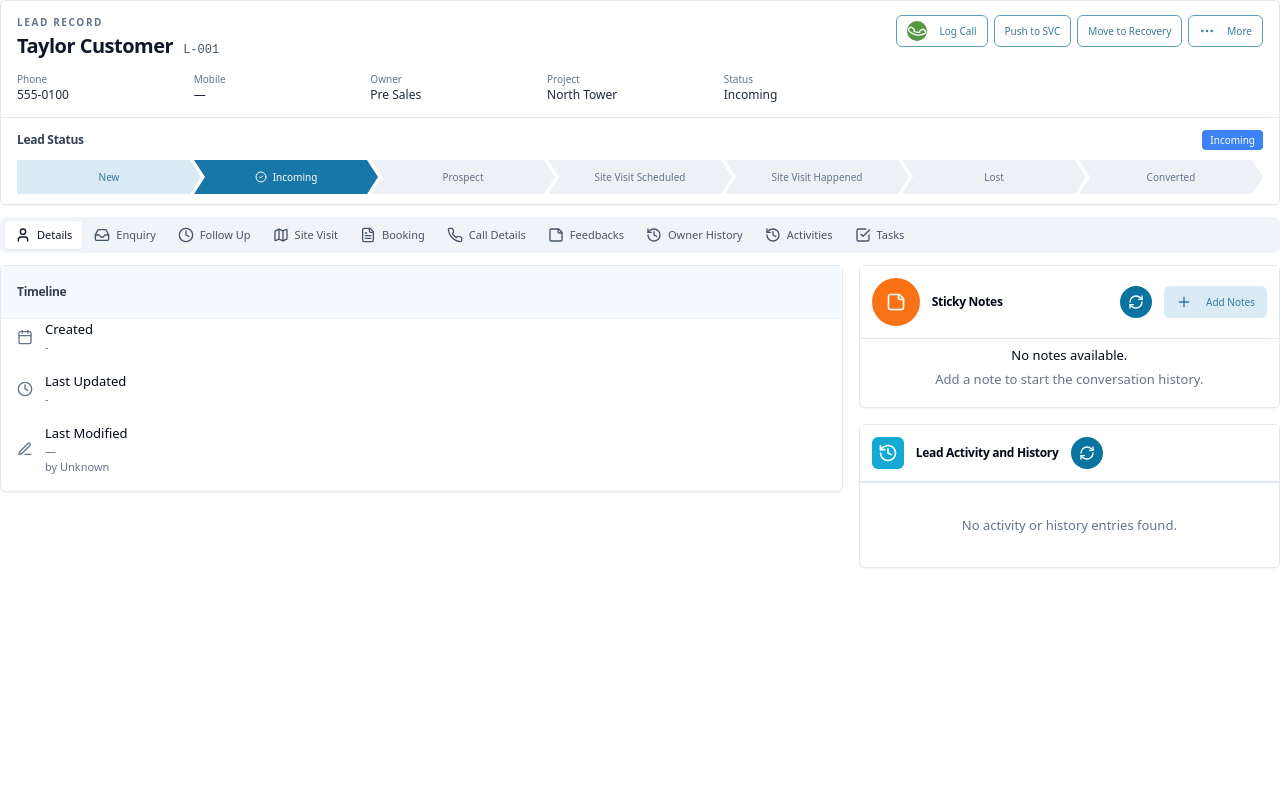
Test case: Push to SVC › shows success and updates local owner/status without refetching inaccessible Lead data
Click the button "Push to SVC".
click(1032, 31)  # box left=994, top=15, right=1071, bottom=47
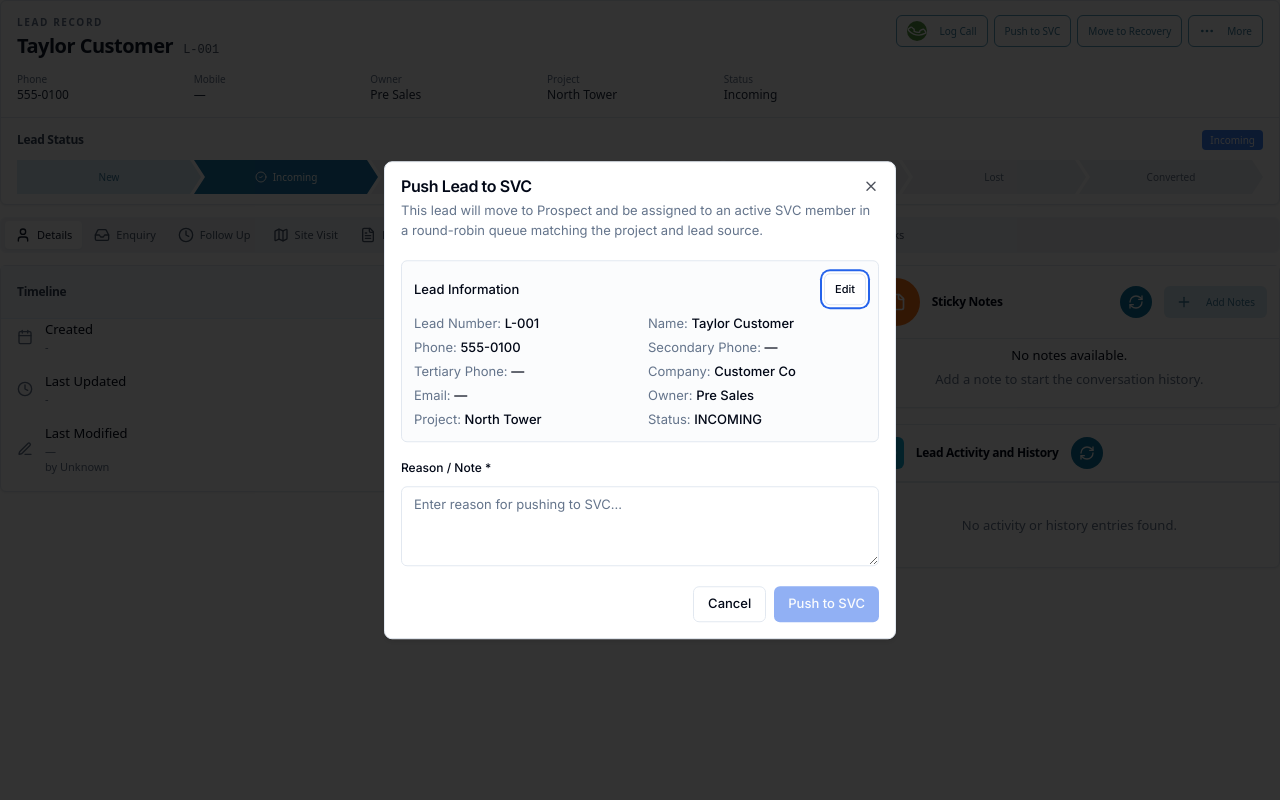
Type "Qualified for site visit" into the text box labelled "Reason / Note *".
click(640, 526); type("Qualified for site visit")  # box left=401, top=486, right=879, bottom=566
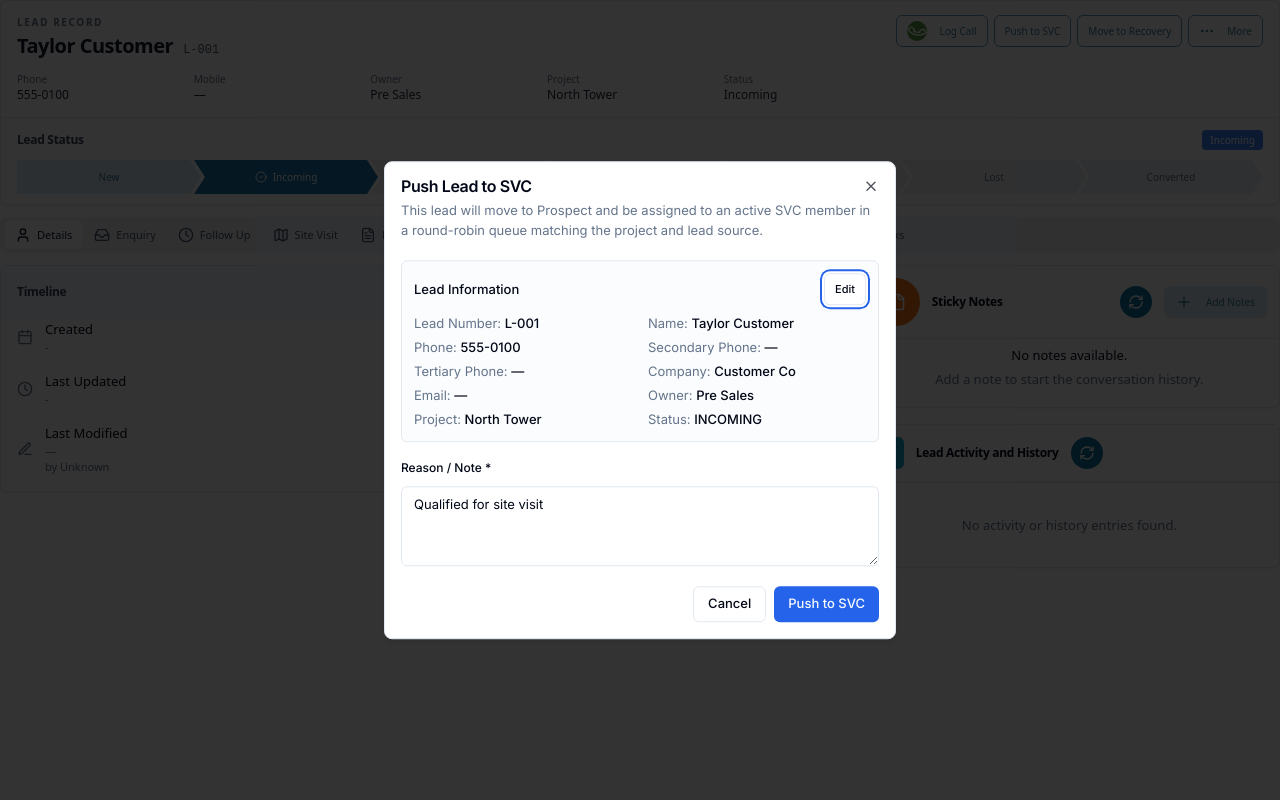
Click the button "Push to SVC".
click(827, 604)  # box left=774, top=586, right=879, bottom=622
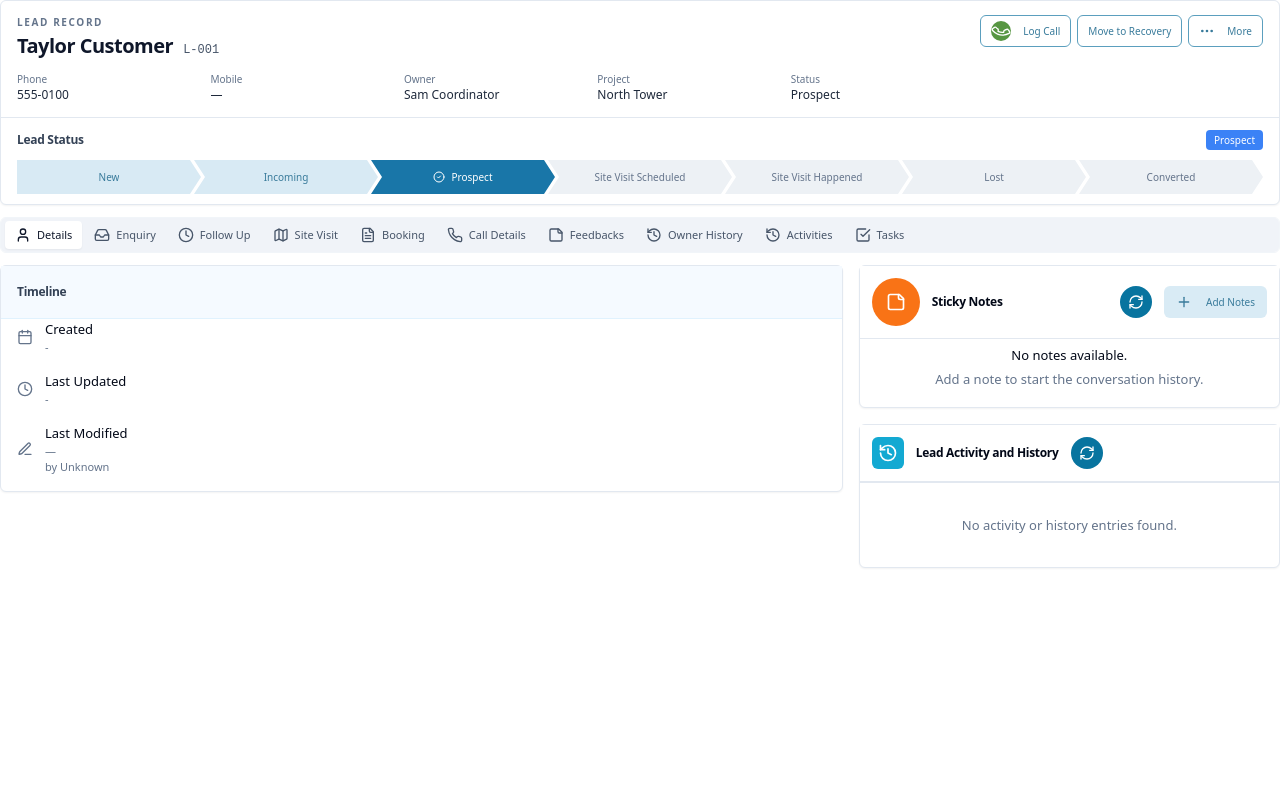
Result: the text "Prospect" next to "North Tower" is shown at left=791, top=86, right=840, bottom=103
Result: the text "Sam Coordinator" is shown at left=404, top=86, right=500, bottom=103
